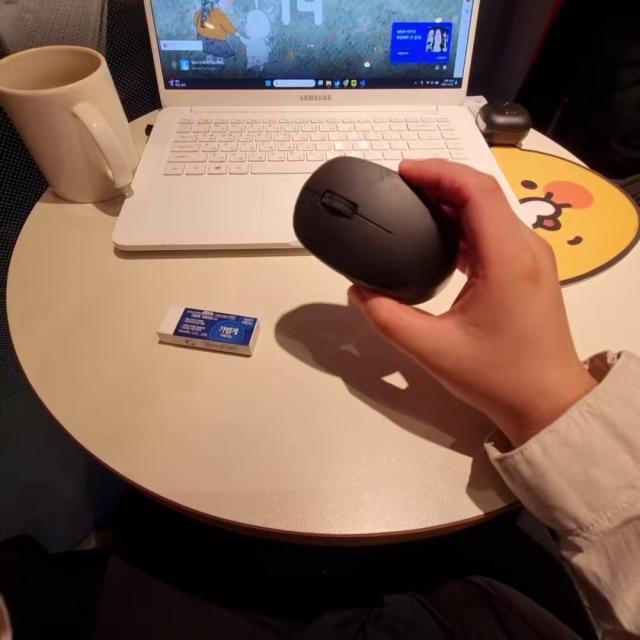eraser: (147, 307, 266, 368)
grab_mouse: (288, 148, 625, 442)
hand: (381, 160, 553, 415)
mouse: (279, 137, 465, 307)
